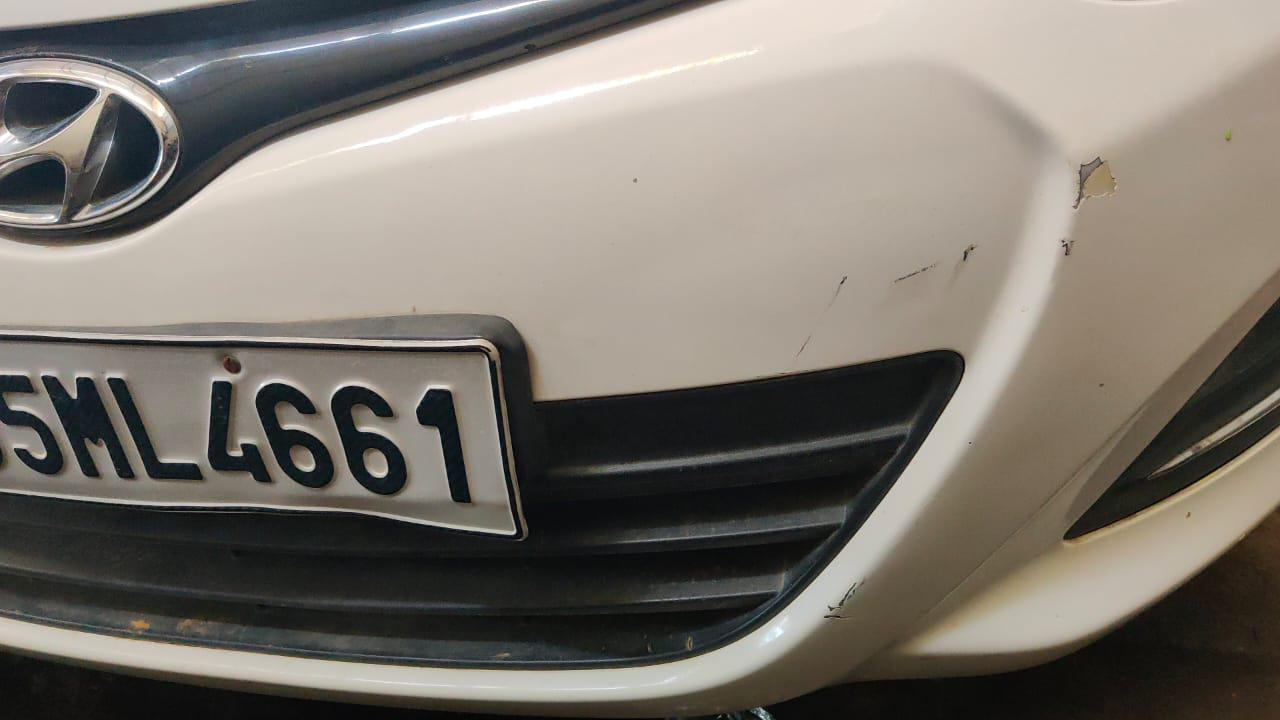front-bumper-dent: (528, 0, 1279, 708)
